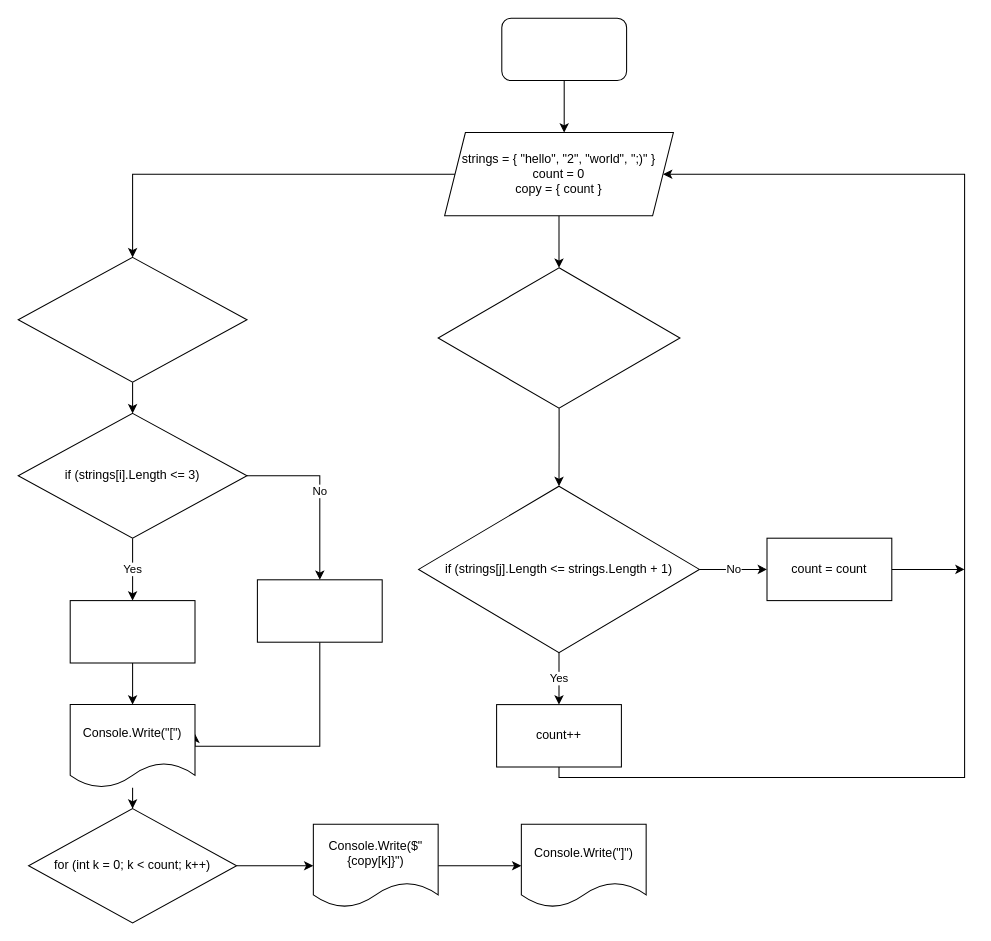
The diagram is 991 pixels wide and 941 high, and some of its shapes have lost their labels. The centre of each missing label's shape, as x and y in pixels:
copy[i] = copy[i]: (319,610)
copy[i] = strings[i]: (132,631)
for (int i = 0; i < strings.copy; i++): (132,319)
for (int j = 0; j < strings.Length; j++): (558,337)
start: (564,49)
